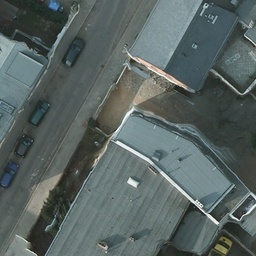car: (62, 37, 87, 68), (30, 96, 48, 126), (1, 163, 19, 190), (16, 133, 33, 157)
